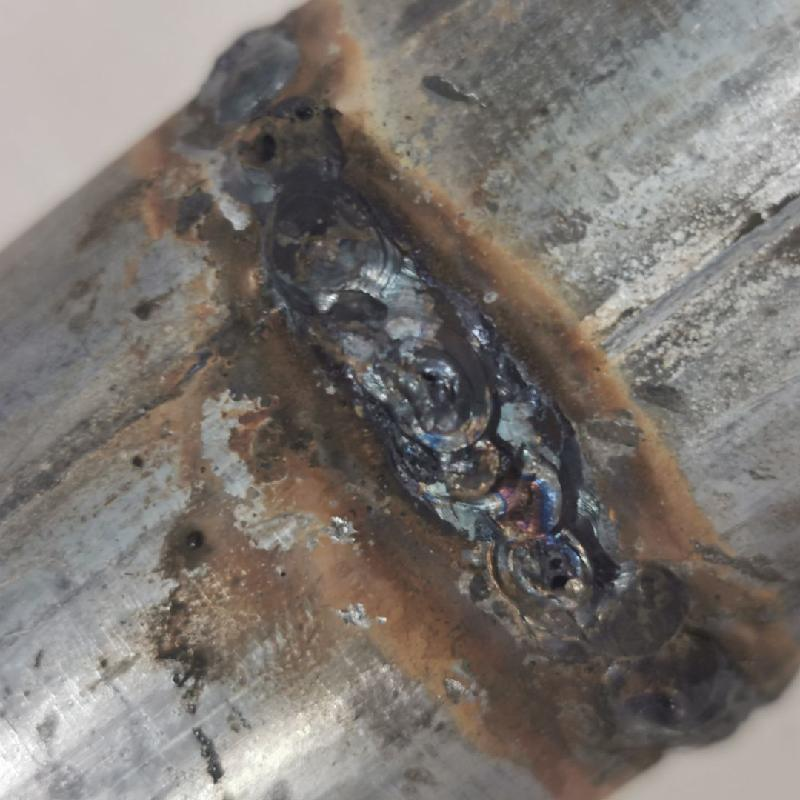Surface_pores: (232, 97, 327, 162), (632, 680, 690, 726), (538, 546, 579, 600)
crater: (364, 345, 596, 620)
wrong_size: (193, 32, 416, 319), (593, 569, 763, 759)
